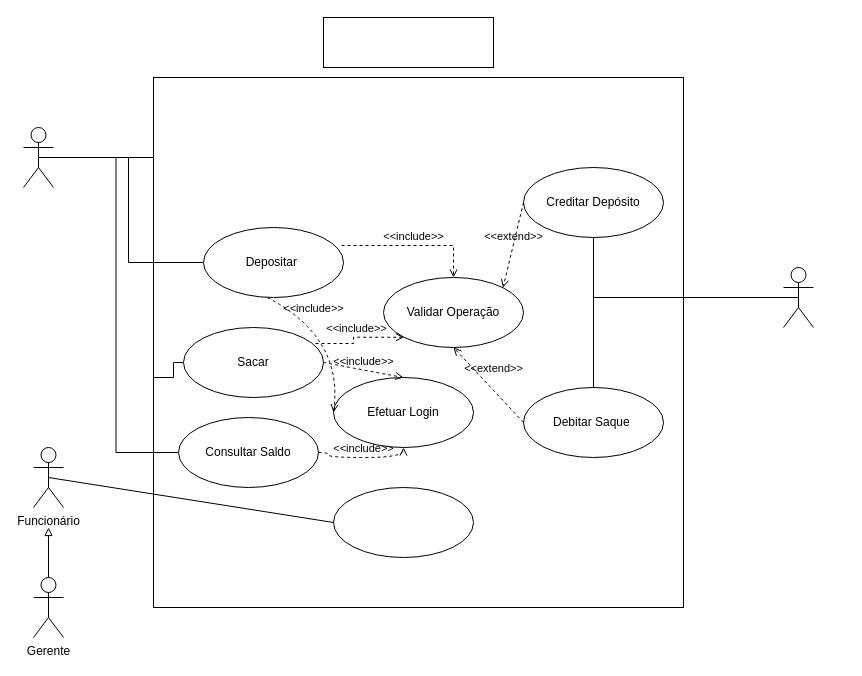
This 862x676 diagram has some shape labels left out. The shapes that lost their labels are listed below. From the top down, each one's box as (x1, y1, x2, y2) in pixels, then its label:
(322, 16, 494, 68): Sistema de caixa automático
(22, 126, 54, 188): Cliente
(782, 266, 814, 328): Sistema bancário
(332, 486, 474, 558): Abastecer Cédulas no Caixa
